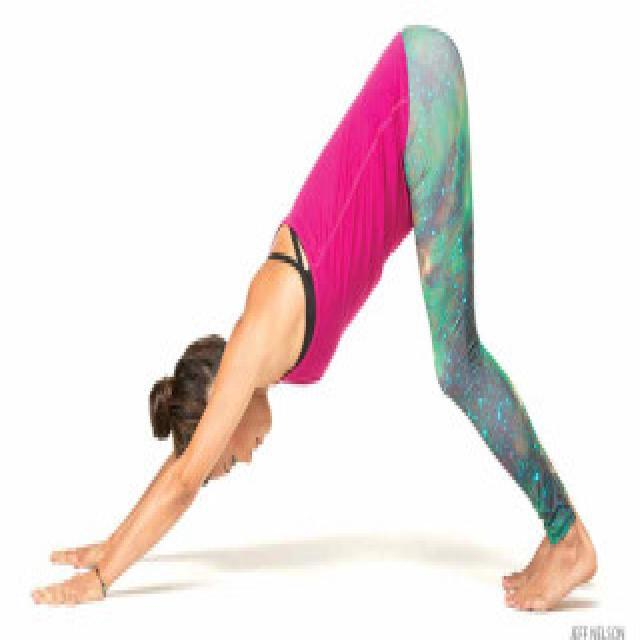yoga-pose downward: (50, 26, 600, 609)
